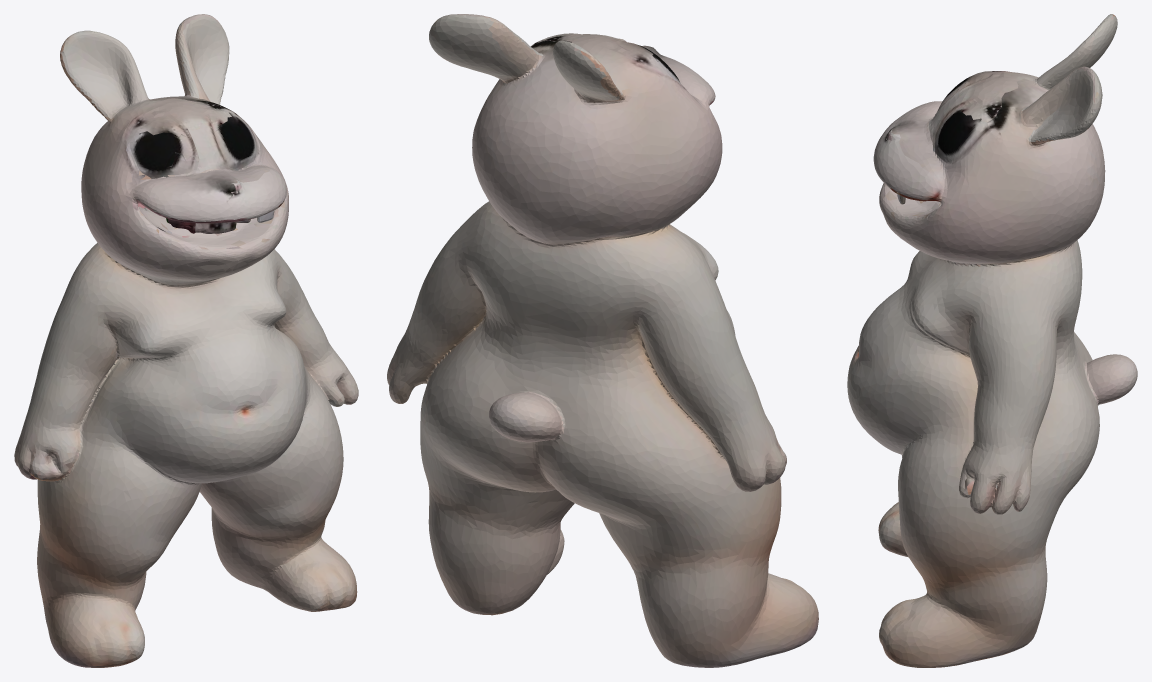
Rendered from garak_creepy1.glb.
The picture shows the model from 3 angles, left to right: view 1: azimuth 30°, elevation 25°; view 2: azimuth 150°, elevation 25°; view 3: azimuth 270°, elevation 25°; orthographic projection. The views are drawn at different scales.
Visible parts, largest first — view 1: creepy1.obj; view 2: creepy1.obj; view 3: creepy1.obj.
Part boxes in pixels (bbox=[...]): creepy1.obj: bbox=[14, 14, 358, 667]; creepy1.obj: bbox=[387, 14, 818, 667]; creepy1.obj: bbox=[847, 14, 1137, 667].
Bounding box in the file's own units: 1.25 × 1.97 × 0.9135.
1 material, 1 textured.
